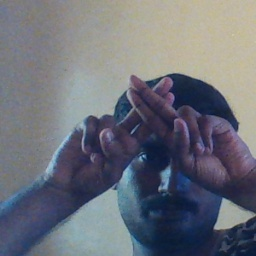F: (94, 71, 219, 171)
